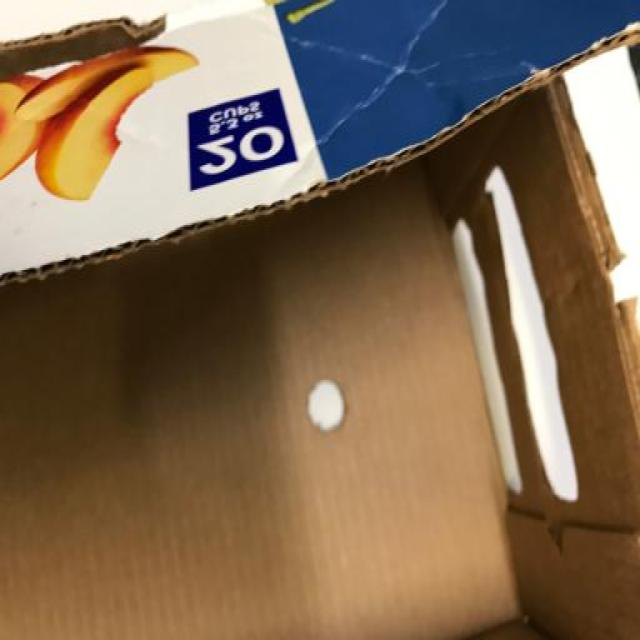cardboard: (0, 0, 640, 640)
